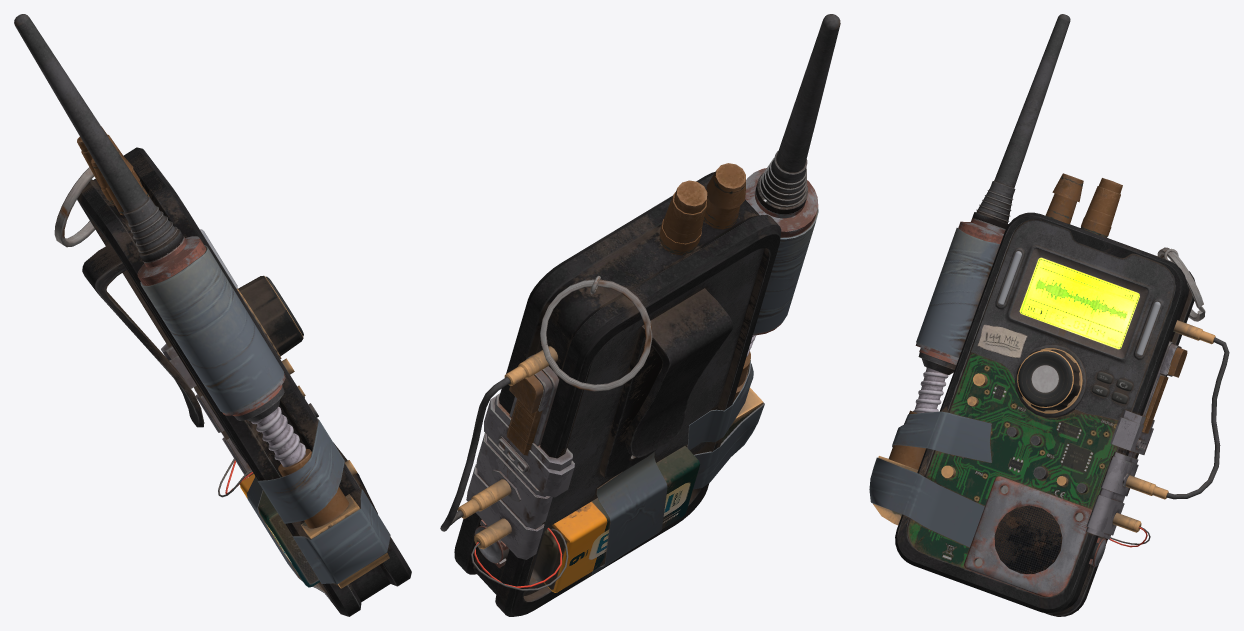
File: walkie-talkie.glb
3 renders of one model, left to right at view 1: azimuth 30°, elevation 25°; view 2: azimuth 150°, elevation 25°; view 3: azimuth 270°, elevation 25°, orthographic. The views are drawn at different scales.
Visible parts, largest first — view 1: walkie_talkie:BG2, walkie_talkie:BG1, walkie_talkie:BG3, walkie_talkie:BG4; view 2: walkie_talkie:BG1, walkie_talkie:BG2, walkie_talkie:BG3, walkie_talkie:BG4; view 3: walkie_talkie:BG2, walkie_talkie:BG3, walkie_talkie:BG1, walkie_talkie:BG4, walkie_talkie:BG5.
Boxes of the visible parts, x1,y1,x2,y2 form: walkie_talkie:BG2: (14,14,348,528); walkie_talkie:BG1: (77,147,411,616); walkie_talkie:BG3: (161,344,390,599); walkie_talkie:BG4: (225,460,389,588); walkie_talkie:BG1: (440,172,781,616); walkie_talkie:BG2: (457,14,840,549); walkie_talkie:BG3: (466,275,764,581); walkie_talkie:BG4: (474,388,763,592); walkie_talkie:BG2: (888,14,1215,532); walkie_talkie:BG3: (869,248,1178,547); walkie_talkie:BG1: (895,212,1229,616); walkie_talkie:BG4: (873,352,1147,569); walkie_talkie:BG5: (964,476,1101,597).
Size of the model in its own units: 0.1161 by 0.1962 by 0.1303.
3 materials, 3 textured.
